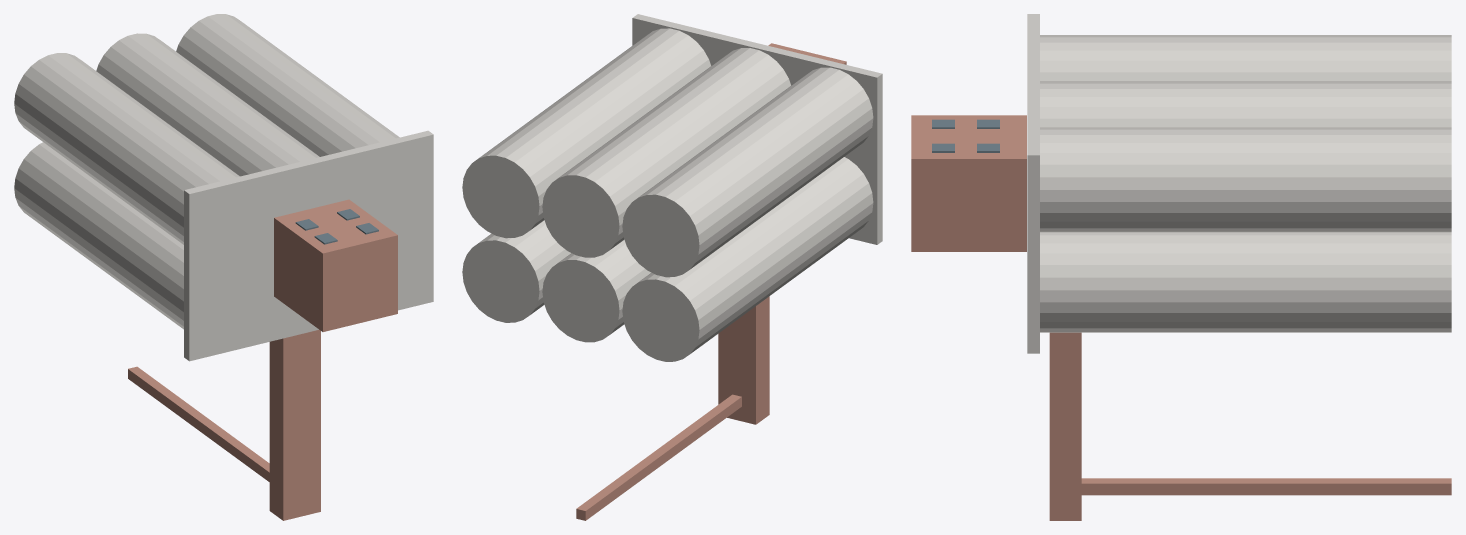
File: r-114-flats-cement-silos.glb
The picture shows the model from 3 angles, left to right: view 1: azimuth 30°, elevation 25°; view 2: azimuth 150°, elevation 25°; view 3: azimuth 270°, elevation 25°; orthographic projection. The views are drawn at different scales.
Visible parts, largest first — view 1: silos, headhouse, windows; view 2: silos, headhouse; view 3: silos, headhouse, windows.
Part boxes in pixels (x1,y1,x2,y2): silos: (14, 14, 433, 361); headhouse: (128, 199, 397, 520); windows: (295, 209, 378, 244); silos: (462, 14, 882, 361); headhouse: (576, 43, 846, 520); silos: (1027, 14, 1451, 353); headhouse: (911, 115, 1451, 520); windows: (932, 119, 999, 152).
Bounding box in the file's own units: 26003 × 36502 × 42000.
